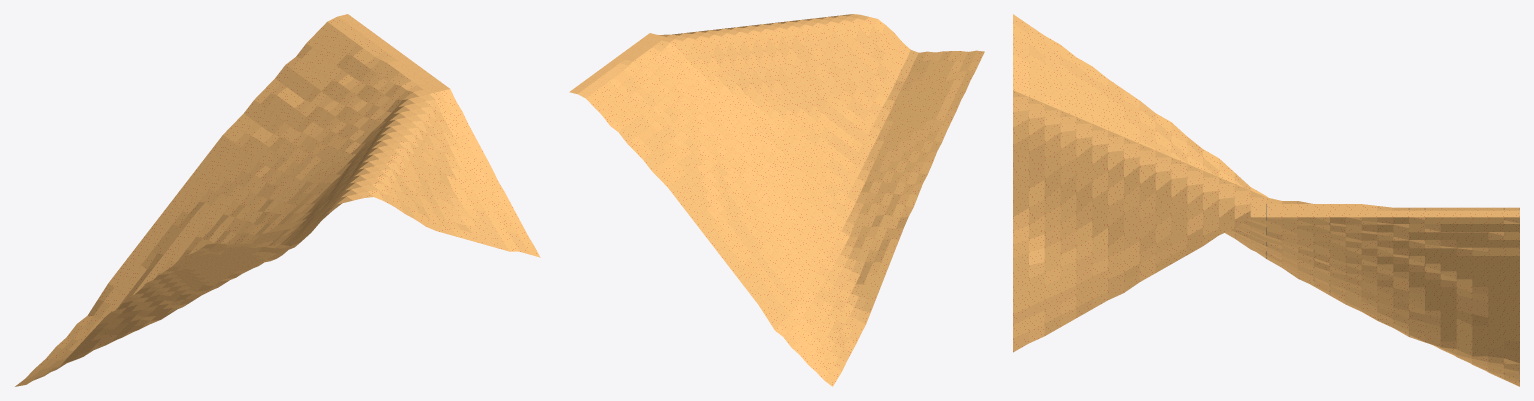
File: map_chunked_040.gltf
3 renders of one model, left to right at view 1: azimuth 30°, elevation 25°; view 2: azimuth 150°, elevation 25°; view 3: azimuth 270°, elevation 25°, orthographic. The views are drawn at different scales.
Parts seen in each view (by area): view 1: map_chunked.040; view 2: map_chunked.040; view 3: map_chunked.040.
Part boxes in pixels (x1,y1,x2,y2): map_chunked.040: (15, 14, 540, 386); map_chunked.040: (569, 14, 984, 386); map_chunked.040: (1013, 14, 1519, 386).
Size of the model in its own units: 32 by 26.73 by 32.
Materials: 1 (1 with a texture image).
